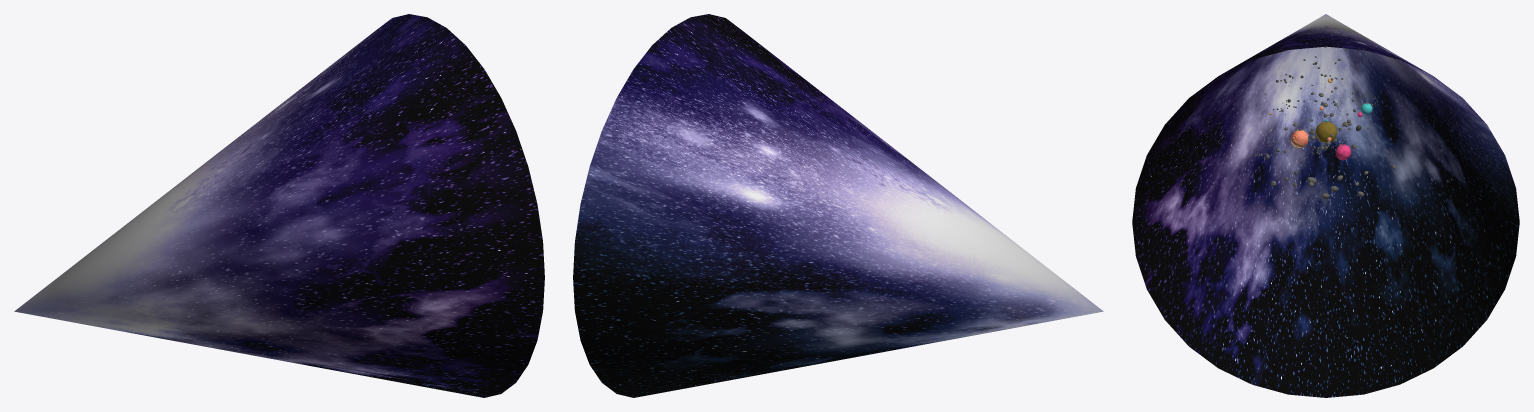
The model's file is Map+4.fbx.
The picture shows the model from 3 angles, left to right: view 1: azimuth 30°, elevation 25°; view 2: azimuth 150°, elevation 25°; view 3: azimuth 270°, elevation 25°; orthographic projection.
Parts seen in each view (by area): view 1: Cone; view 2: Cone; view 3: Cone, Planet_02__1_.
Part boxes in pixels (bbox=[...]): Cone: bbox=[14, 14, 544, 397]; Cone: bbox=[573, 14, 1103, 397]; Cone: bbox=[1132, 14, 1519, 397]; Planet_02__1_: bbox=[1315, 121, 1337, 142].
Bounding box in the file's own units: 8909 × 7005 × 7005.
Materials: 11 (7 with a texture image).
